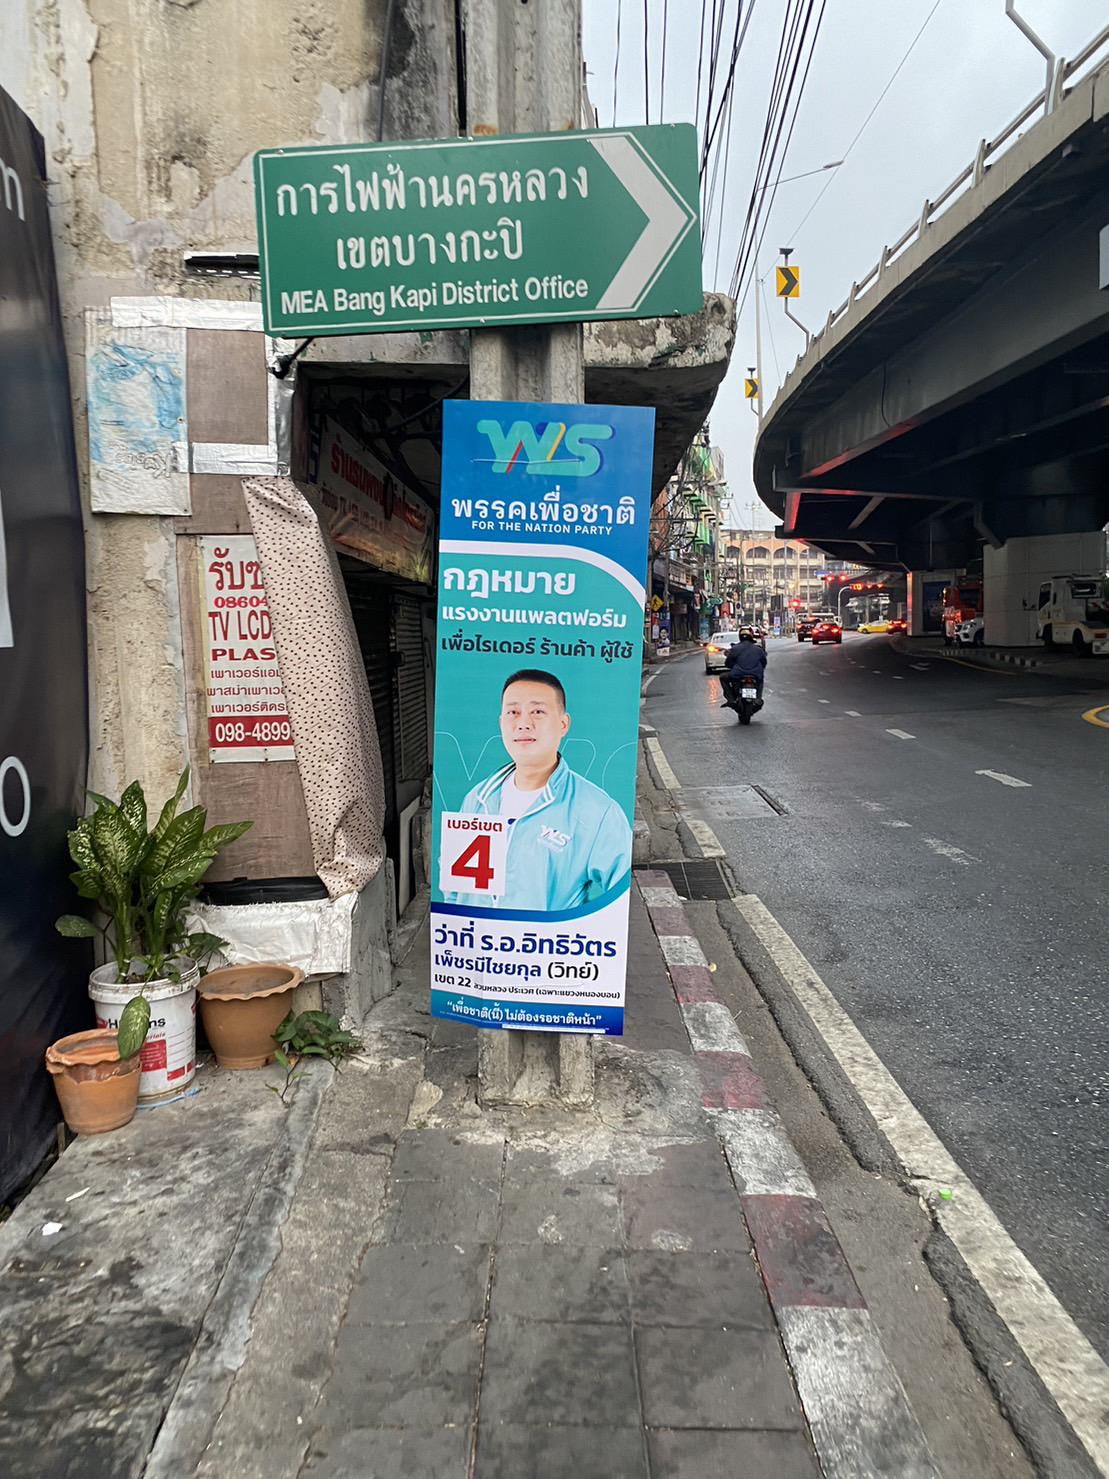Banner: (425, 399, 661, 1025)
